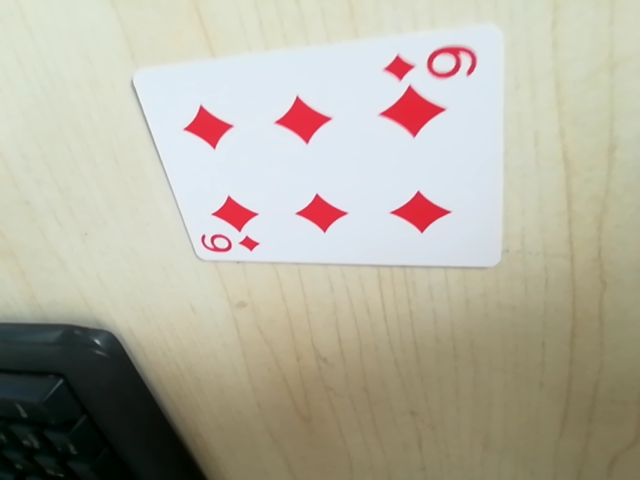fk 6: (381, 37, 483, 90), (197, 229, 261, 260)
